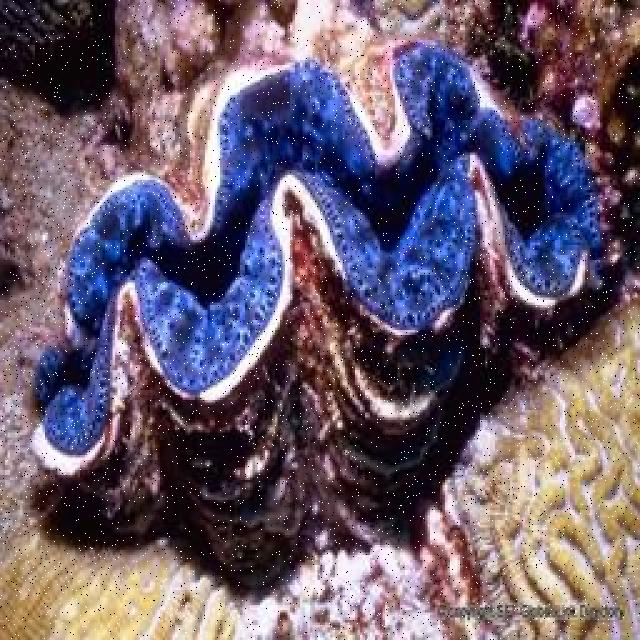reefs: (21, 38, 628, 574), (573, 95, 598, 129)
sea-floor: (0, 0, 638, 638)
